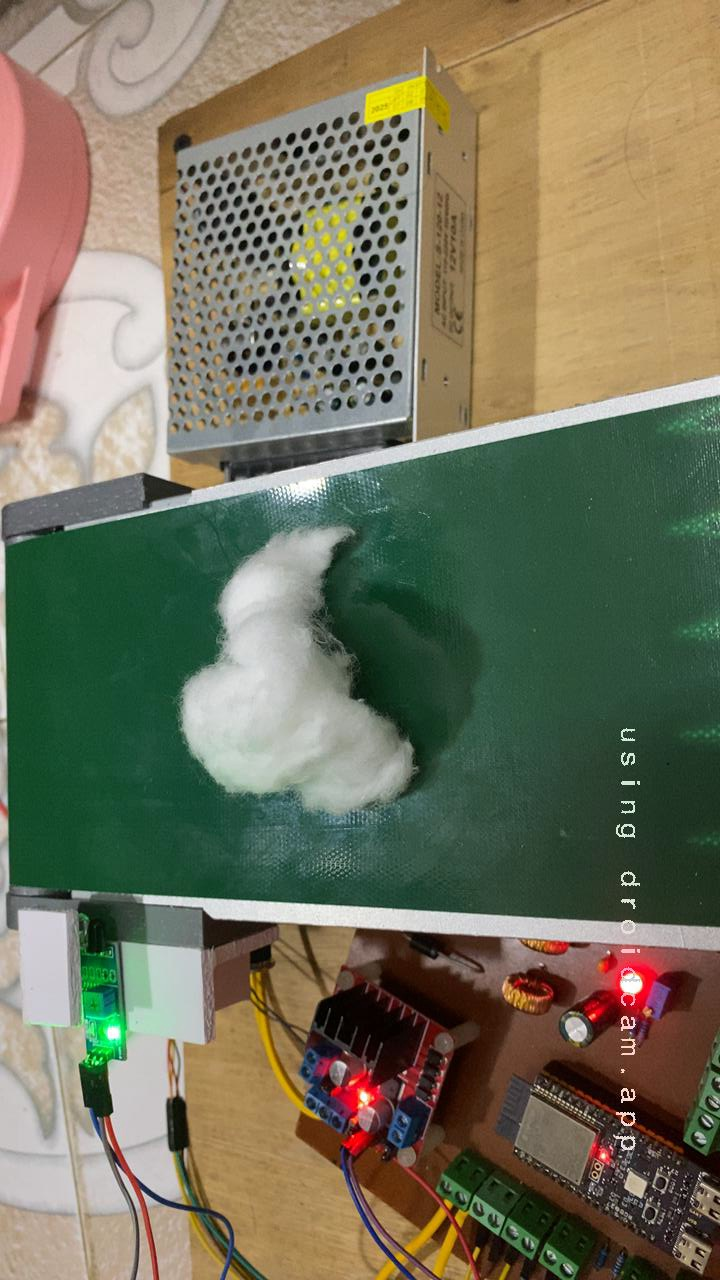cotton: (139, 501, 445, 846)
